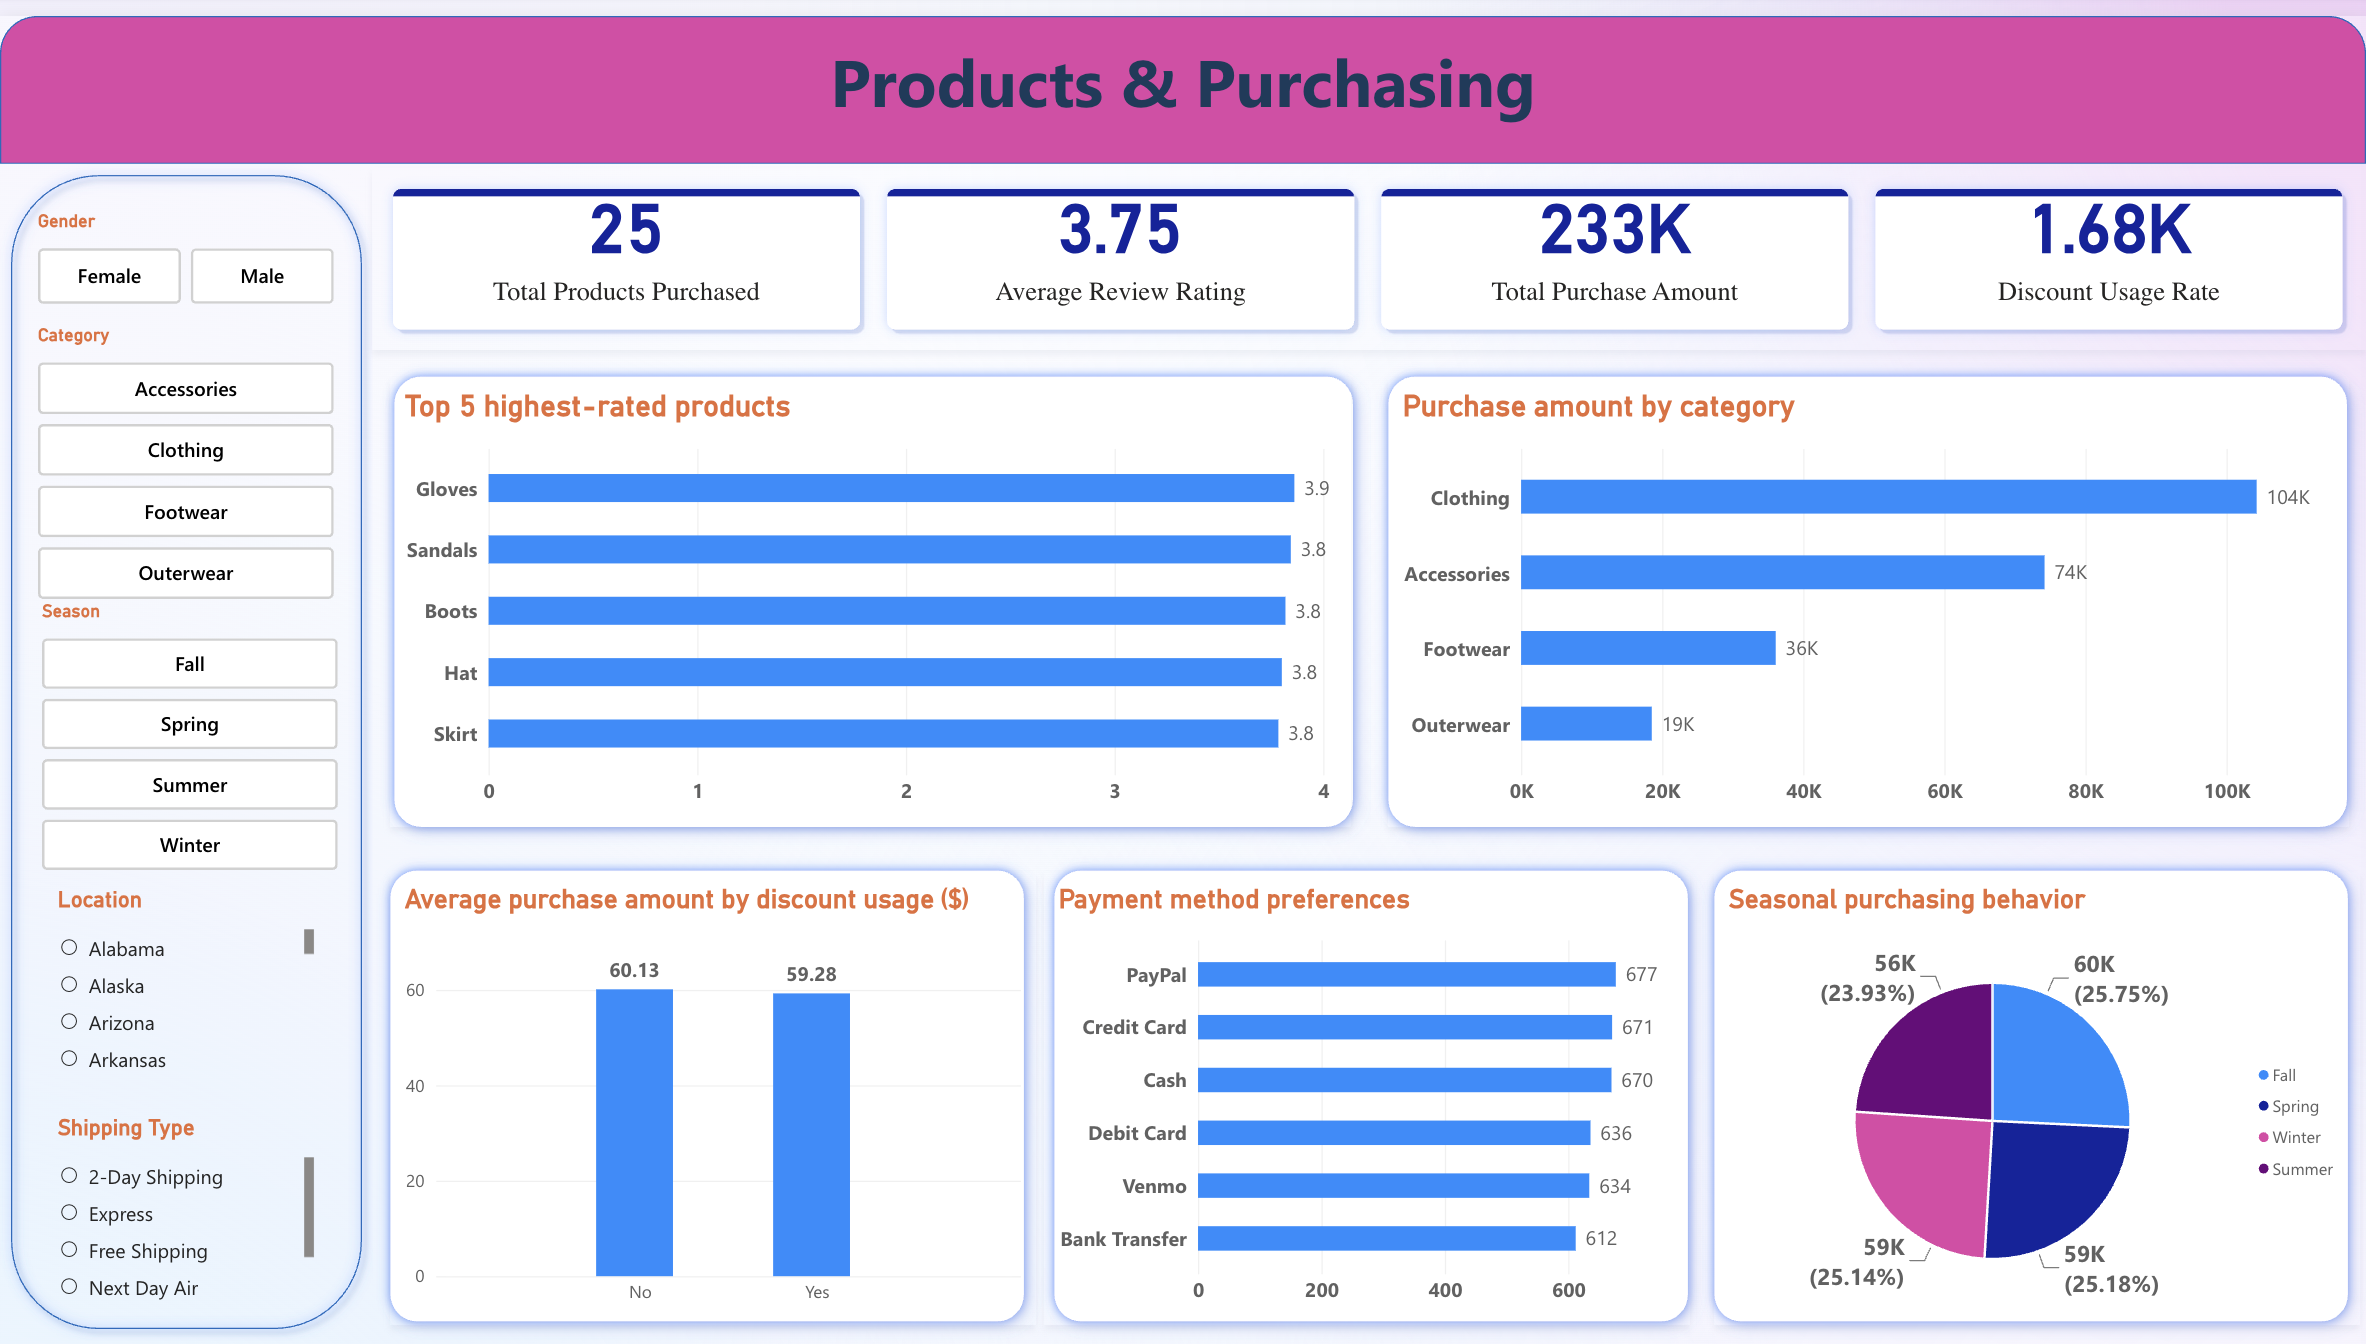

The dashboard page shown, as its layout file describes it:
{"tool":"powerbi","page":{"name":"Products & Purchasing","canvas":[1920,1080],"ordinal":2},"visuals":[{"type":"cardVisual","fields":{"Data":["Count(public customer.item_purchased)","Avg(public customer.review_rating)","Sum(public customer.purchase_amount)","public customer.Count of discount_applied for Yes"]},"box":[302,124,1618,148],"z":0},{"type":"shape","box":[0,0,1920,120],"z":1000},{"type":"textbox","box":[0,16,1920,108],"z":2000},{"type":"shape","box":[302,678.2,544,396],"z":3000},{"type":"clusteredColumnChart","title":"Average purchase amount by discount usage ($)","fields":{"Category":["public customer.discount_applied"],"Y":["Avg(public customer.purchase_amount)"]},"box":[316,694.2,524,368],"z":4000},{"type":"shape","box":[840,678.2,544,396],"z":5000},{"type":"shape","box":[1376,678.2,544,396],"z":6000},{"type":"pieChart","title":"Seasonal purchasing behavior","fields":{"Category":["public customer.season"],"Y":["Sum(public customer.purchase_amount)"]},"box":[1390.3,695.1,524,368],"z":7000},{"type":"barChart","title":"Payment method preferences","fields":{"Category":["public customer.payment_method"],"Y":["public customer.Total Customers"]},"box":[848,695.1,524,368],"z":8000},{"type":"shape","box":[0,120.7,302.7,954.4],"z":9000},{"type":"advancedSlicerVisual","title":"Gender","fields":{"Values":["public customer.gender"]},"box":[31.4,159.1,240.8,75.4],"z":10000},{"type":"advancedSlicerVisual","title":"Category","fields":{"Values":["public customer.category"]},"box":[31.4,251.3,240.8,224],"z":11000},{"type":"listSlicer","title":"Shipping Type","fields":{"Values":["public customer.shipping_type"]},"box":[31.4,879.4,240.8,184.3],"z":12000},{"type":"shape","box":[305.7,277.3,807.7,395.5],"z":13000},{"type":"clusteredBarChart","title":"Top 5 highest-rated products","fields":{"Category":["public customer.item_purchased"],"Y":["Avg(public customer.review_rating)"]},"box":[316.9,294,779.9,363.9],"z":14000},{"type":"shape","box":[1111.6,277.3,807.7,395.5],"z":15000},{"type":"clusteredBarChart","title":"Purchase amount by category","fields":{"Category":["public customer.category"],"Y":["Sum(public customer.purchase_amount)"]},"box":[1126.4,294,779.9,363.9],"z":16000},{"type":"listSlicer","title":"Location","fields":{"Values":["public customer.location"]},"box":[31.4,695.1,240.8,180.1],"z":17000},{"type":"advancedSlicerVisual","title":"Season","fields":{"Values":["public customer.season"]},"box":[33.5,475.3,240.8,219.8],"z":18000}]}

Visuals, with their boxes in screenshot pixels (x1, y1, x2, y2), scaled from the page's 1920x1080 canvas onto the 2366x1344 screenshot:
cardVisual - Count(public customer.item_purchased) x Avg(public customer.review_rating): [left=372, top=154, right=2365, bottom=338]
shape: [left=0, top=0, right=2365, bottom=149]
textbox: [left=0, top=20, right=2365, bottom=154]
shape: [left=372, top=844, right=1043, bottom=1337]
"Average purchase amount by discount usage ($)" clusteredColumnChart: [left=389, top=864, right=1035, bottom=1322]
shape: [left=1035, top=844, right=1705, bottom=1337]
shape: [left=1696, top=844, right=2365, bottom=1337]
"Seasonal purchasing behavior" pieChart: [left=1713, top=865, right=2359, bottom=1323]
"Payment method preferences" barChart: [left=1045, top=865, right=1691, bottom=1323]
shape: [left=0, top=150, right=373, bottom=1338]
"Gender" advancedSlicerVisual: [left=39, top=198, right=335, bottom=292]
"Category" advancedSlicerVisual: [left=39, top=313, right=335, bottom=591]
"Shipping Type" listSlicer: [left=39, top=1094, right=335, bottom=1324]
shape: [left=377, top=345, right=1372, bottom=837]
"Top 5 highest-rated products" clusteredBarChart: [left=391, top=366, right=1352, bottom=819]
shape: [left=1370, top=345, right=2365, bottom=837]
"Purchase amount by category" clusteredBarChart: [left=1388, top=366, right=2349, bottom=819]
"Location" listSlicer: [left=39, top=865, right=335, bottom=1089]
"Season" advancedSlicerVisual: [left=41, top=591, right=338, bottom=865]
